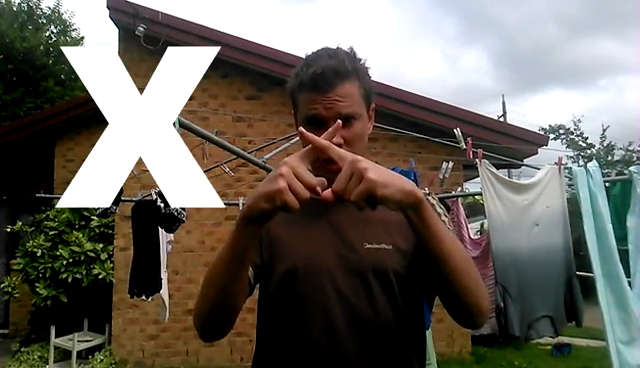X: (248, 113, 414, 228)
